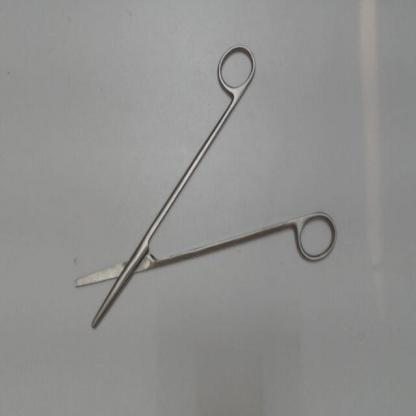9 Metzenbaum Scissors: (71, 42, 340, 336)
